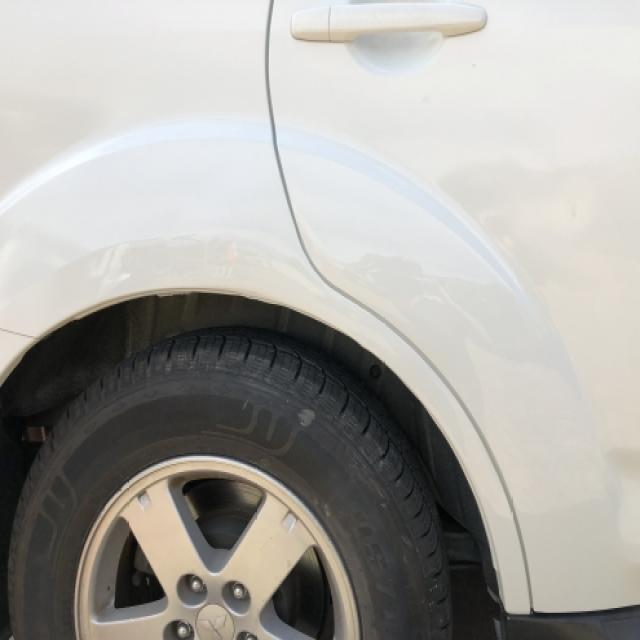scratch: (0, 326, 43, 342)
